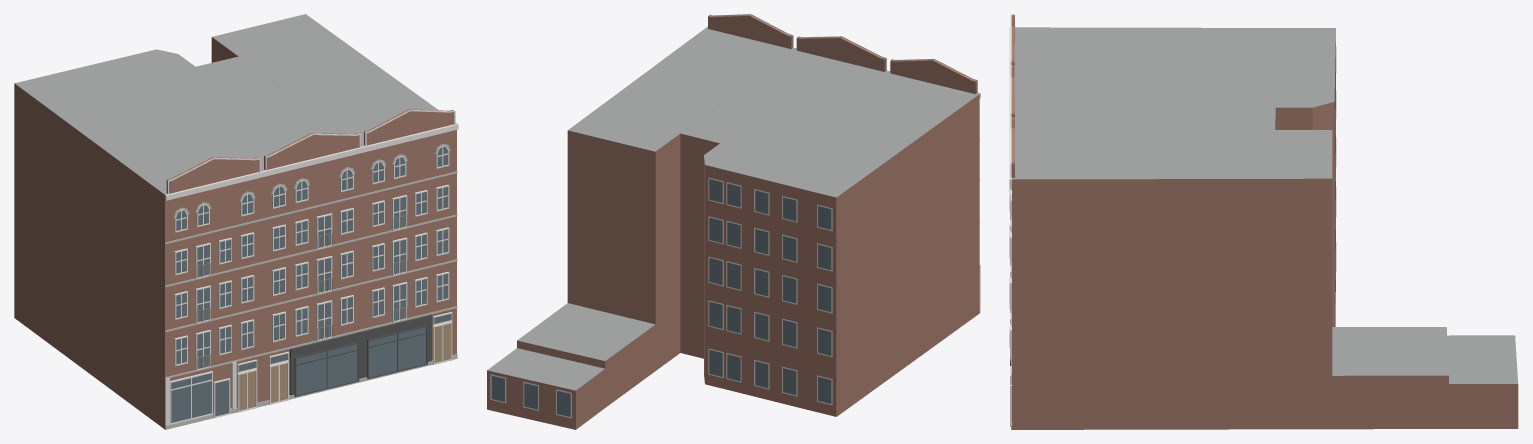
File: chunk-face-bilder-233645-236975.glb
3 views of the same model, side by side, from view 1: azimuth 30°, elevation 25°; view 2: azimuth 150°, elevation 25°; view 3: azimuth 270°, elevation 25° (orthographic). The views are drawn at different scales.
Parts seen in each view (by area): view 1: face-bilder-233645-236975; view 2: face-bilder-233645-236975; view 3: face-bilder-233645-236975.
Part boxes in pixels (x1,y1,x2,y2): face-bilder-233645-236975: (14, 14, 458, 429); face-bilder-233645-236975: (487, 14, 980, 429); face-bilder-233645-236975: (1009, 14, 1518, 429).
Bounding box in the file's own units: 21.46 × 18.26 × 30.37.
